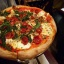pepper: (20, 11, 31, 23), (33, 18, 41, 30)
pepperoni: (32, 35, 43, 45), (18, 37, 30, 45), (5, 30, 15, 38)
pizza: (1, 1, 56, 60)
